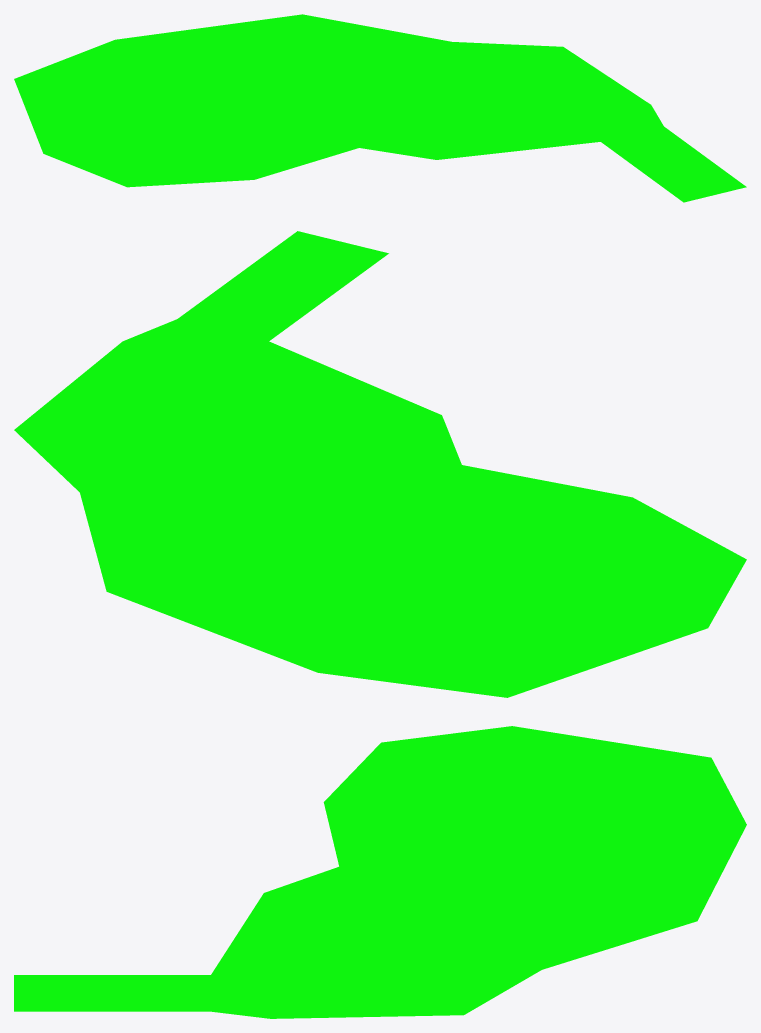
File: s01a_na1-floor.glb
The picture shows the model from 3 angles, top to bottom: view 1: azimuth 30°, elevation 25°; view 2: azimuth 150°, elevation 25°; view 3: azimuth 270°, elevation 25°; orthographic projection. The views are drawn at different scales.
Parts seen in each view (by area): view 1: collision_floor-colonly; view 2: collision_floor-colonly; view 3: collision_floor-colonly.
Part boxes in pixels (x1,y1,x2,y2): collision_floor-colonly: (14,14,746,202); collision_floor-colonly: (14,231,746,697); collision_floor-colonly: (14,726,746,1018).
Bounding box in the file's own units: 47.98 × 0 × 50.74.
